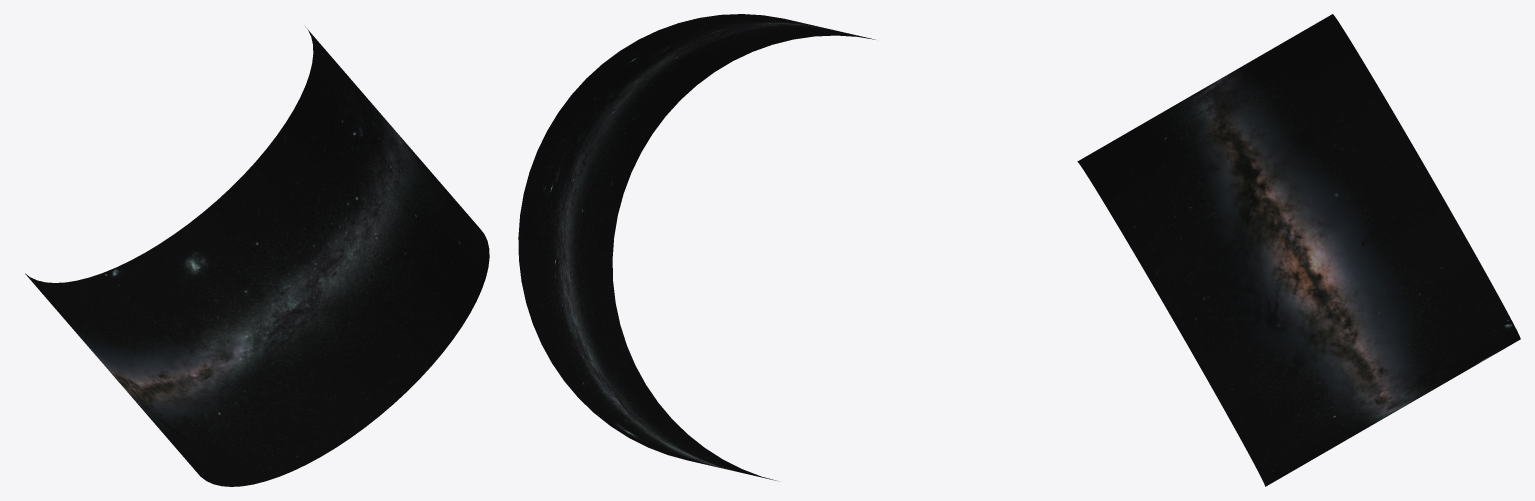
The model's file is MILKIWAY.glb.
3 views of the same model, side by side, from view 1: azimuth 30°, elevation 25°; view 2: azimuth 150°, elevation 25°; view 3: azimuth 270°, elevation 25° (orthographic). The views are drawn at different scales.
Visible parts, largest first — view 1: Milki; view 2: Milki; view 3: Milki.
Boxes of the visible parts, x1,y1,x2,y2 form: Milki: (25,29,489,486); Milki: (518,14,874,480); Milki: (1077,14,1520,486).
Size of the model in its own units: 725 by 800 by 755.
1 material, 1 textured.
